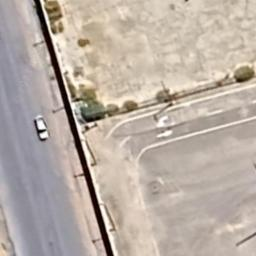sedan: (34, 116, 50, 142)
